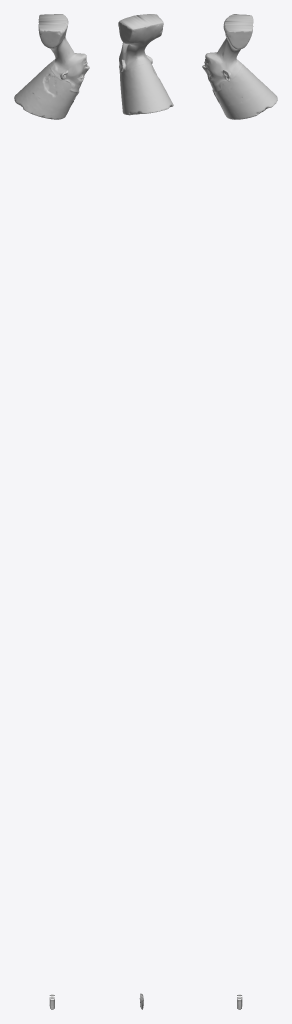
File: nefertiti.obj
3 renders of one model, left to right at view 1: azimuth 90°, elevation 25°; view 2: azimuth 210°, elevation 25°; view 3: azimuth 270°, elevation 25°, orthographic.
Visible parts, largest first — view 1: Bust-Of-Nefertiti-At-The-Neues-Museum-Berlin-1; view 2: Bust-Of-Nefertiti-At-The-Neues-Museum-Berlin-1; view 3: Bust-Of-Nefertiti-At-The-Neues-Museum-Berlin-1.
Part boxes in pixels (<box>): Bust-Of-Nefertiti-At-The-Neues-Museum-Berlin-1: <box>14,14,89,119</box>; Bust-Of-Nefertiti-At-The-Neues-Museum-Berlin-1: <box>118,14,173,115</box>; Bust-Of-Nefertiti-At-The-Neues-Museum-Berlin-1: <box>202,14,277,119</box>.
Bounding box in the file's own units: 63.09 × 1387 × 95.92.
